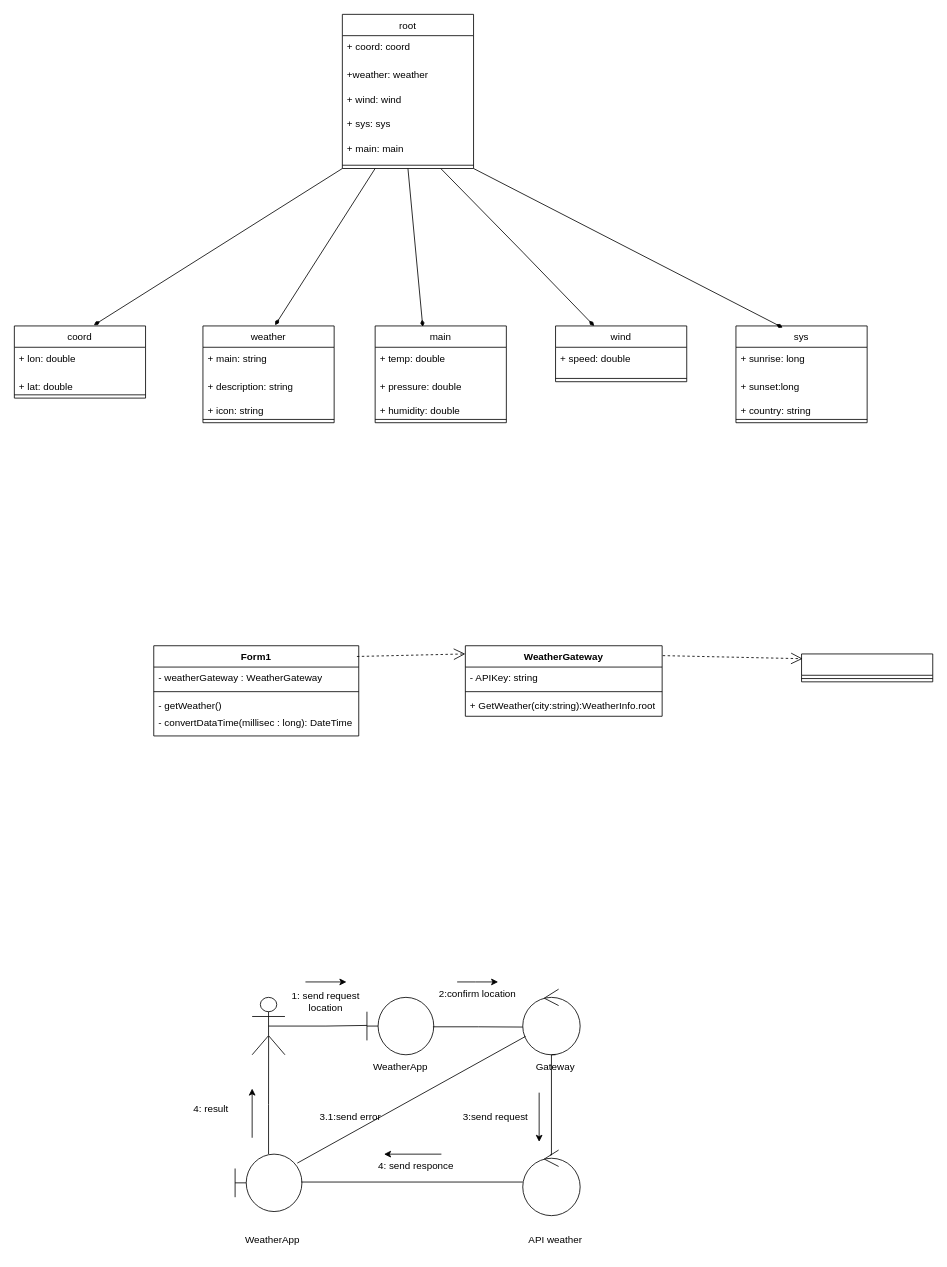
Some shapes in this 947 by 1267 pixel diagram are drawn without their labels. The shapes that lost their labels are listed below. From the top down, each one's centre as x and y in pixels, then its label:
At (x=867, y=667): "WeatherInfo".
At (x=268, y=1026): "User".
